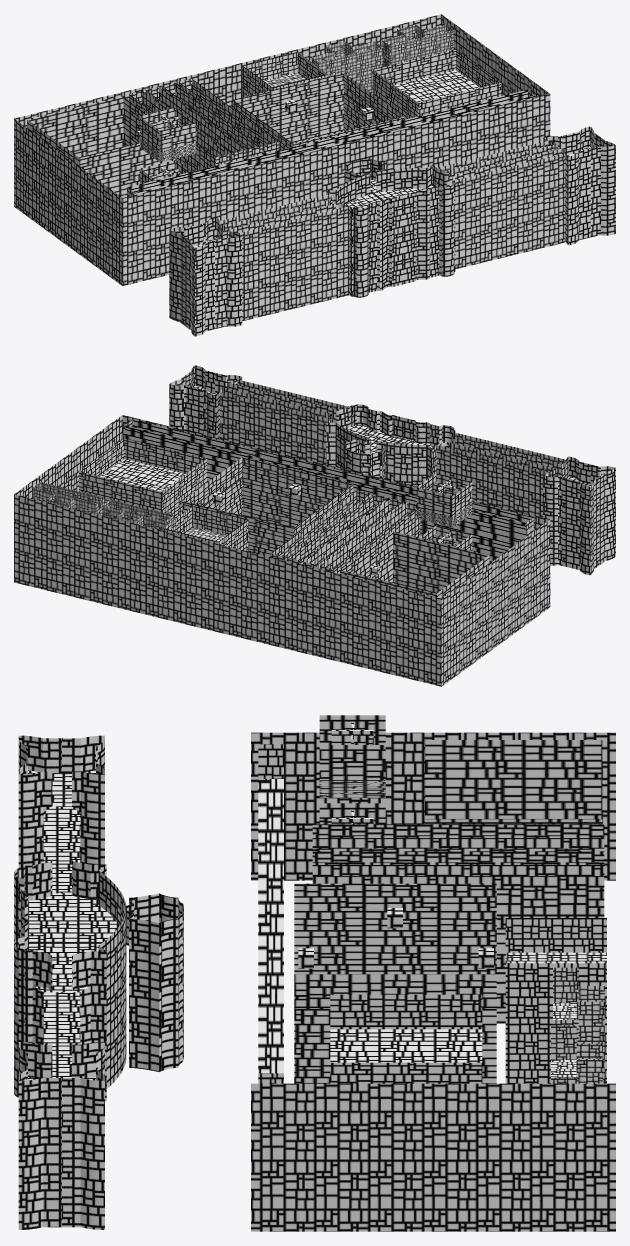
The model's file is Temple4.glb.
3 renders of one model, top to bottom at view 1: azimuth 30°, elevation 25°; view 2: azimuth 150°, elevation 25°; view 3: azimuth 270°, elevation 25°, orthographic. The views are drawn at different scales.
Parts seen in each view (by area): view 1: Entrance, Wall, BridgeRoom, PillarsRoom, HallwayChain, BallsRoom, Hallway, CirclesRoom, CrossRoom1, StatueHallway1, StatueHallway2, CrossRoom2; view 2: Wall, Entrance, BridgeRoom, Hallway, BallsRoom, HallwayChain, PillarsRoom, CirclesRoom, CrossRoom1, StatueHallway2, StatueHallway1, CrossRoom2; view 3: Wall, Entrance, BridgeRoom, HallwayChain, PillarsRoom, BallsRoom, CirclesRoom, Hallway, CrossRoom1, StatueHallway1, StatueHallway2, CrossRoom2.
Part boxes in pixels (x1,y1,x2,y2): Entrance: [169, 126, 615, 336]; Wall: [14, 14, 550, 285]; BridgeRoom: [233, 73, 403, 150]; PillarsRoom: [27, 96, 176, 197]; HallwayChain: [129, 78, 278, 171]; BallsRoom: [373, 49, 501, 119]; Hallway: [127, 89, 535, 196]; CirclesRoom: [242, 52, 327, 97]; CrossRoom1: [140, 107, 195, 162]; StatueHallway1: [311, 41, 382, 93]; StatueHallway2: [382, 24, 453, 67]; CrossRoom2: [140, 160, 191, 184]; Wall: [14, 415, 550, 686]; Entrance: [169, 365, 615, 575]; BridgeRoom: [182, 457, 353, 556]; Hallway: [125, 419, 533, 562]; BallsRoom: [79, 438, 206, 519]; HallwayChain: [270, 490, 420, 573]; PillarsRoom: [340, 531, 489, 598]; CirclesRoom: [163, 506, 248, 551]; CrossRoom1: [416, 473, 472, 527]; StatueHallway2: [33, 482, 104, 515]; StatueHallway1: [102, 499, 173, 530]; CrossRoom2: [419, 525, 472, 550]; Wall: [251, 732, 615, 1231]; Entrance: [14, 735, 183, 1229]; BridgeRoom: [294, 883, 496, 1083]; HallwayChain: [312, 824, 604, 1023]; PillarsRoom: [425, 740, 602, 824]; BallsRoom: [330, 994, 482, 1083]; CirclesRoom: [505, 918, 606, 1083]; Hallway: [258, 744, 283, 1083]; CrossRoom1: [319, 715, 385, 797]; StatueHallway1: [553, 967, 604, 1083]; StatueHallway2: [551, 1025, 602, 1083]; CrossRoom2: [319, 803, 385, 824].
Size of what is drawn, in the model's own units: 130 by 38.76 by 94.19.
2 materials, 1 textured.
